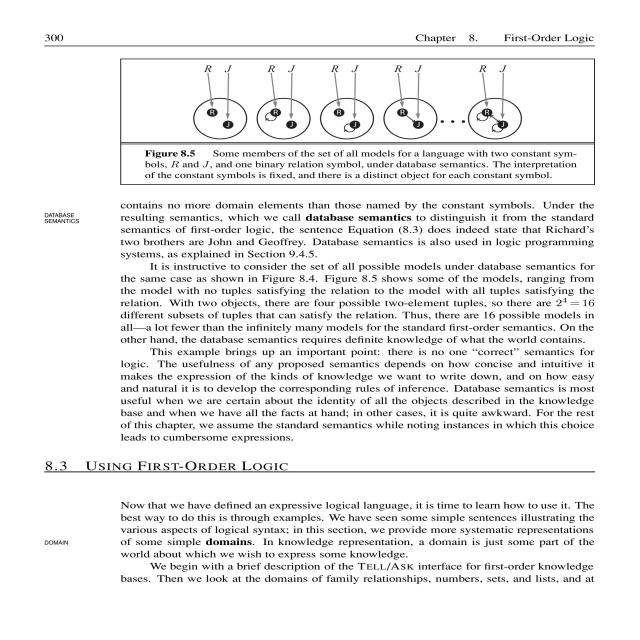diagram: (121, 56, 573, 186)
